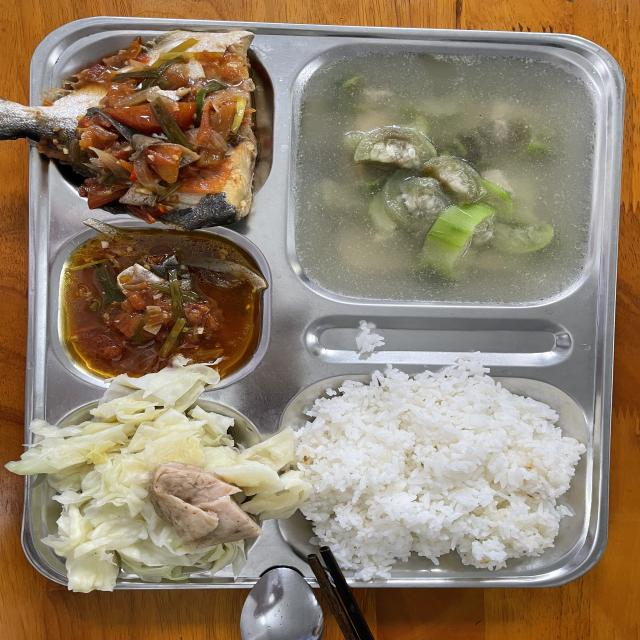bap cai xao: (9, 360, 302, 592)
ca kho: (0, 30, 258, 229)
canh bau: (294, 52, 595, 305)
com: (295, 353, 584, 580)
